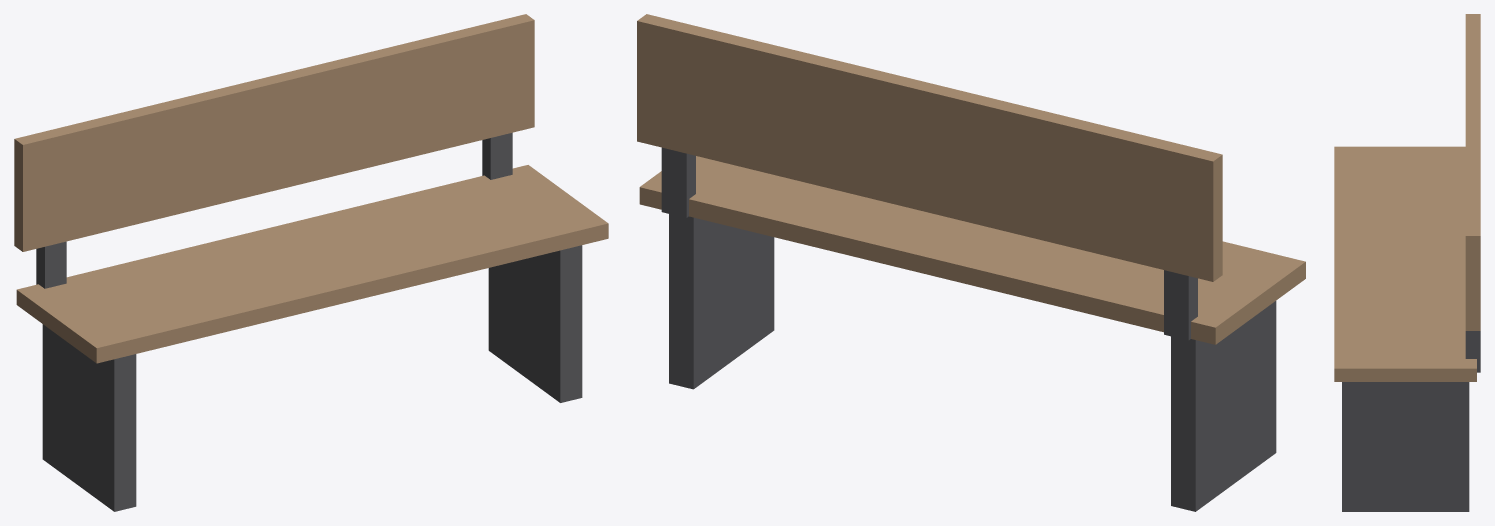
The model's file is bench.glb.
The picture shows the model from 3 angles, left to right: view 1: azimuth 30°, elevation 25°; view 2: azimuth 150°, elevation 25°; view 3: azimuth 270°, elevation 25°; orthographic projection. The views are drawn at different scales.
Visible parts, largest first — view 1: prop; view 2: prop; view 3: prop.
Part boxes in pixels (bbox=[...]): prop: bbox=[14, 14, 608, 511]; prop: bbox=[637, 14, 1305, 511]; prop: bbox=[1334, 14, 1480, 511].
Bounding box in the file's own units: 1.4 × 0.84 × 0.39.
